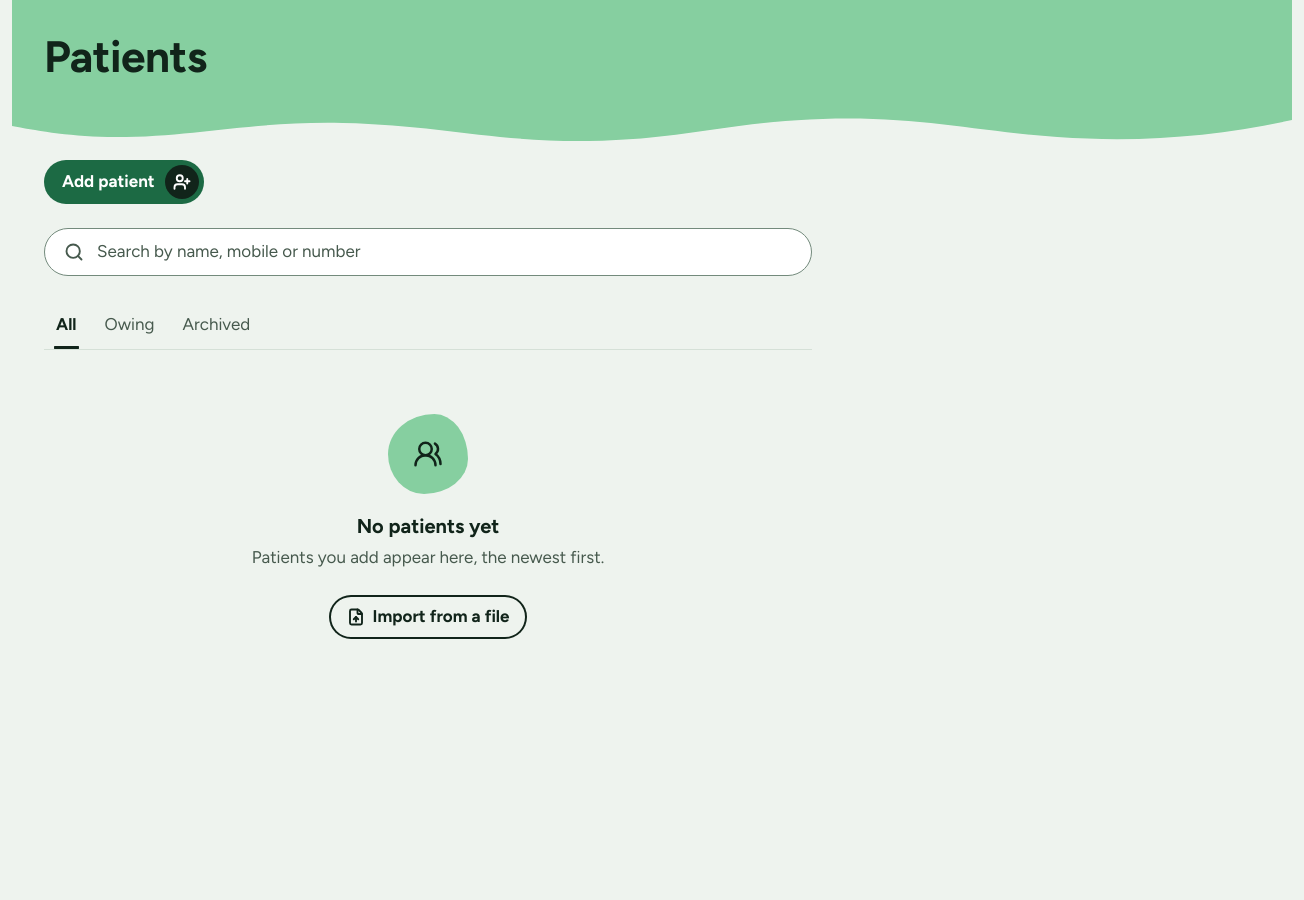
Patients' Owing tab and balance chip (plan §10.2; D101) › says when no one owes
The width and height of the screenshot is (1304, 900).
Click the tab "Owing" at (129, 325), box [92,300,166,349]
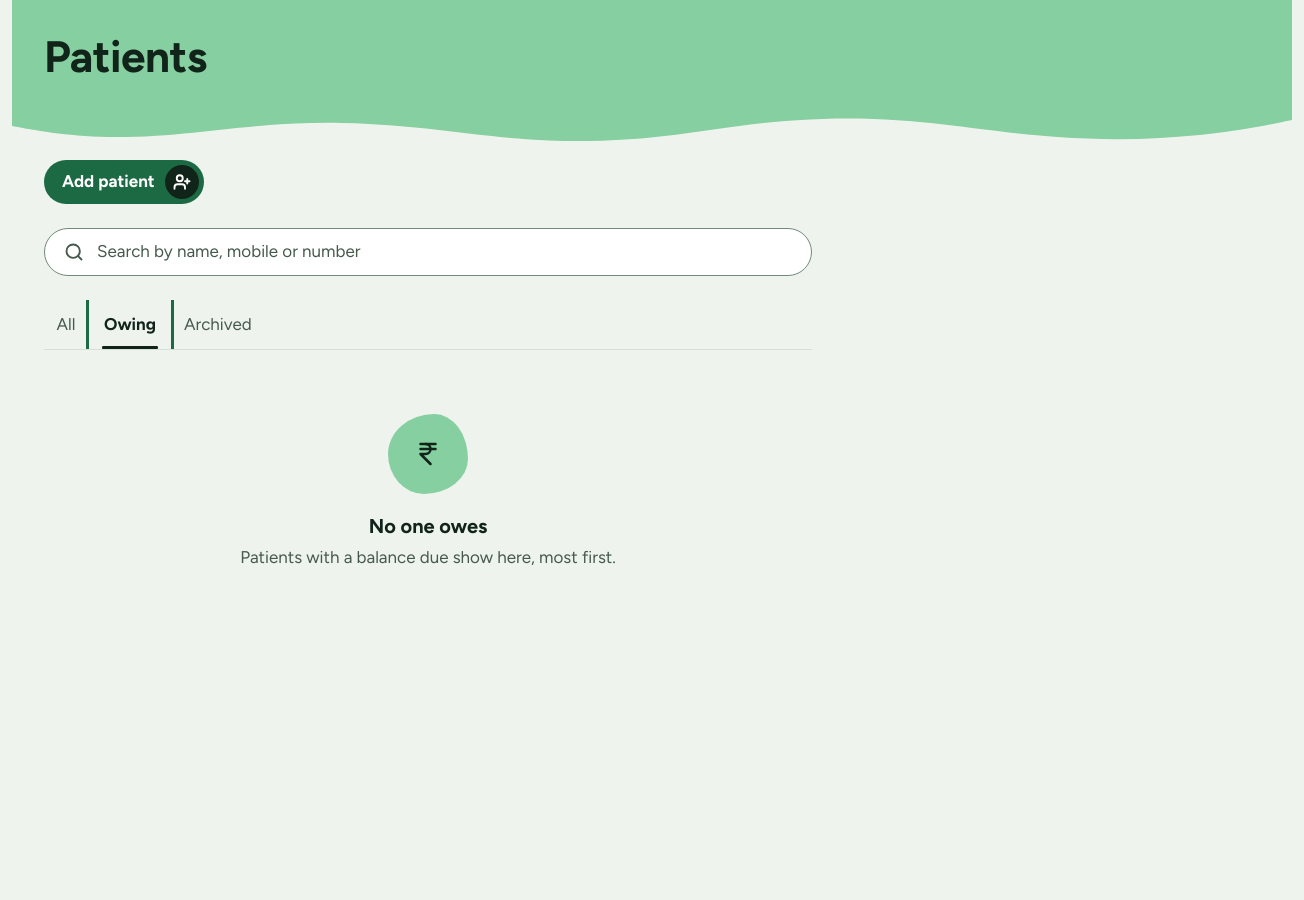
Expected: the heading "No one owes" is shown, [369,514,487,539]
